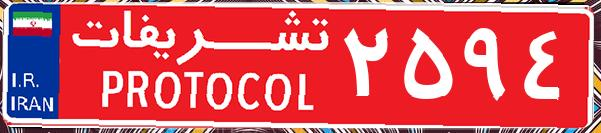2: (340, 20, 400, 115)
4: (520, 20, 580, 115)
5: (400, 20, 460, 115)
9: (460, 20, 520, 115)
تشریفات: (60, 8, 340, 125)
